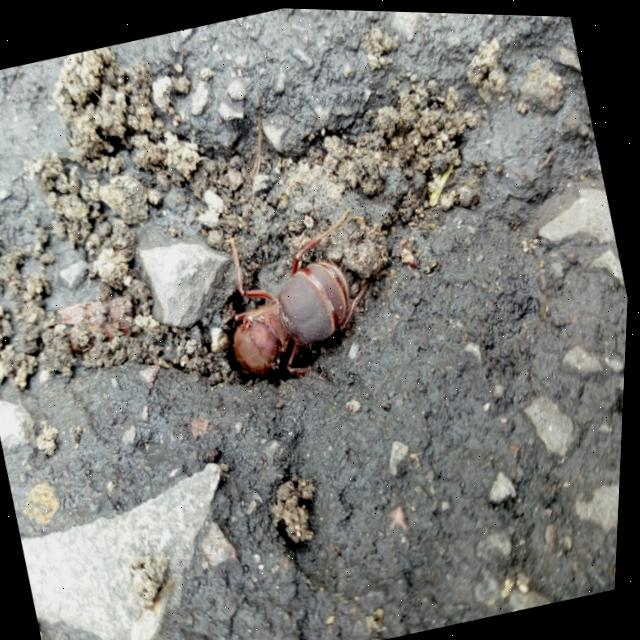Alive-Female-Dealate: (206, 195, 417, 407)
